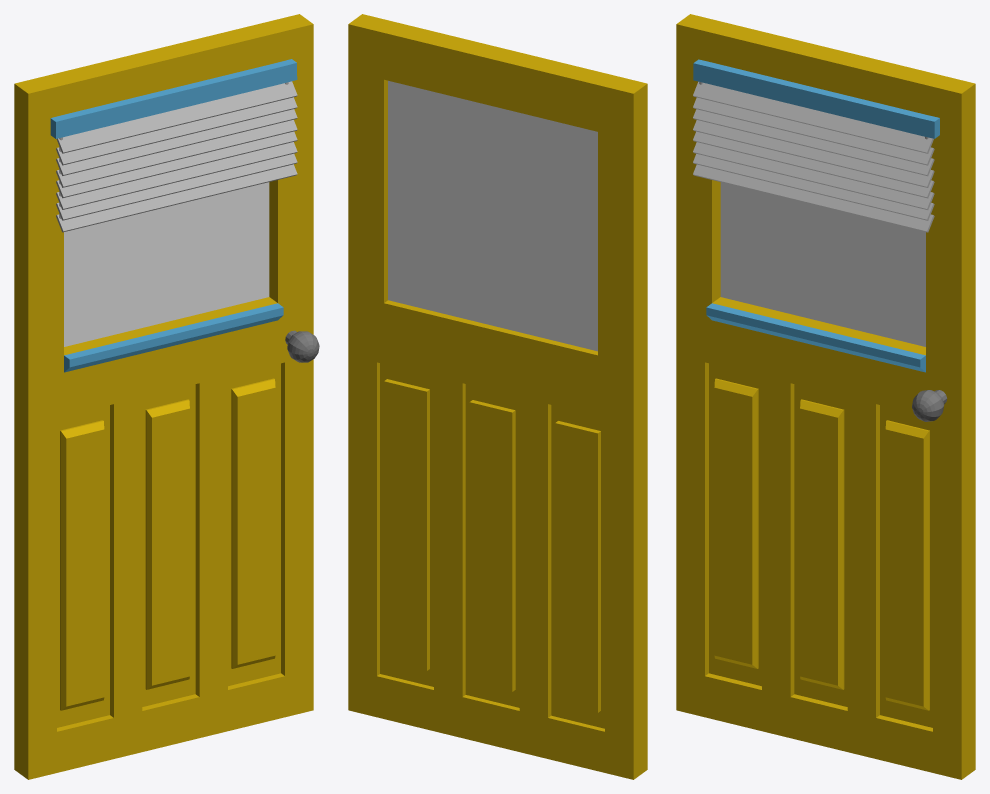
File: LudumDareDoor.fbx
3 renders of one model, left to right at view 1: azimuth 30°, elevation 25°; view 2: azimuth 150°, elevation 25°; view 3: azimuth 330°, elevation 25°, orthographic.
Parts seen in each view (by area): view 1: Door, Door.003, Blinds, Door.001, Door.002; view 2: Door, Door.004; view 3: Door, Door.003, Blinds, Door.001, Door.002.
Boxes of the visible parts, x1,y1,x2,y2 form: Door: (14,14,313,779); Door.003: (64,182,269,346); Blinds: (56,81,297,232); Door.001: (50,59,297,372); Door.002: (285,330,319,362); Door: (348,14,647,779); Door.004: (388,80,597,351); Door: (676,14,975,779); Door.003: (720,182,925,346); Blinds: (693,81,934,232); Door.001: (693,59,939,372); Door.002: (912,390,947,421).
Size of the model in its own units: 94.6 by 217 by 19.38.
